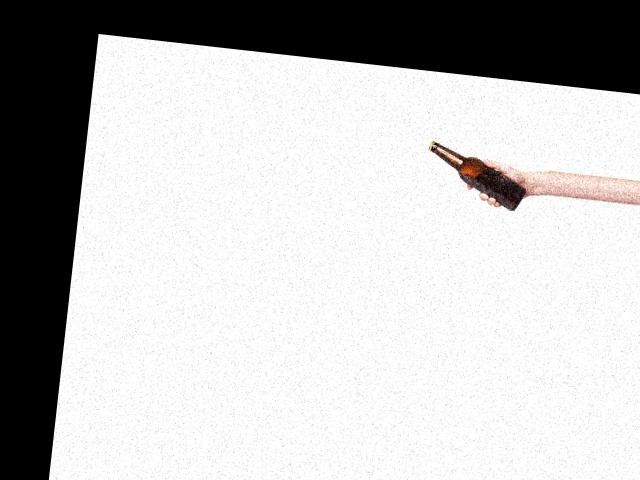beer: (422, 139, 529, 211)
